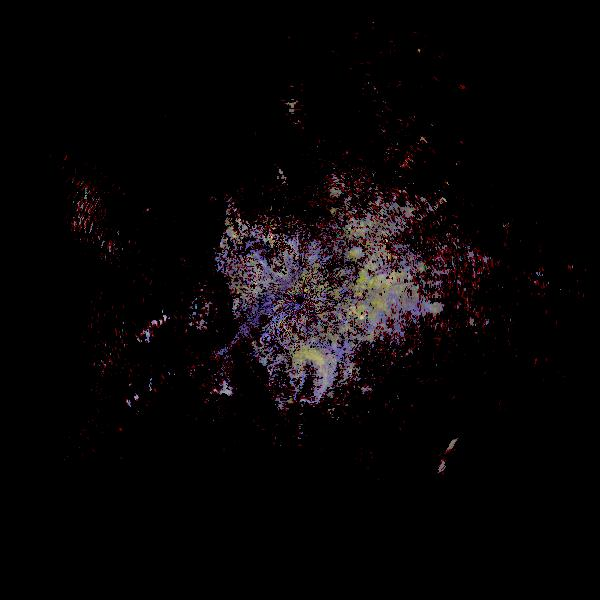roost: (265, 336, 343, 414), (428, 427, 497, 496)
